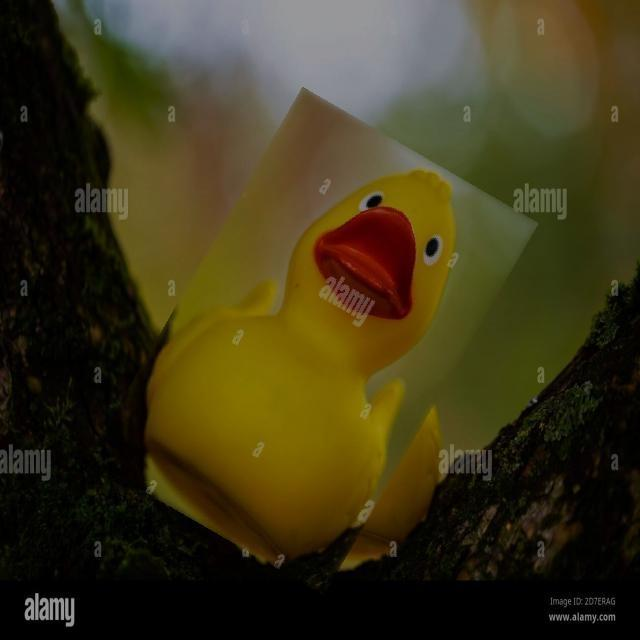rubber-duck: (144, 89, 530, 565), (365, 298, 448, 396)
